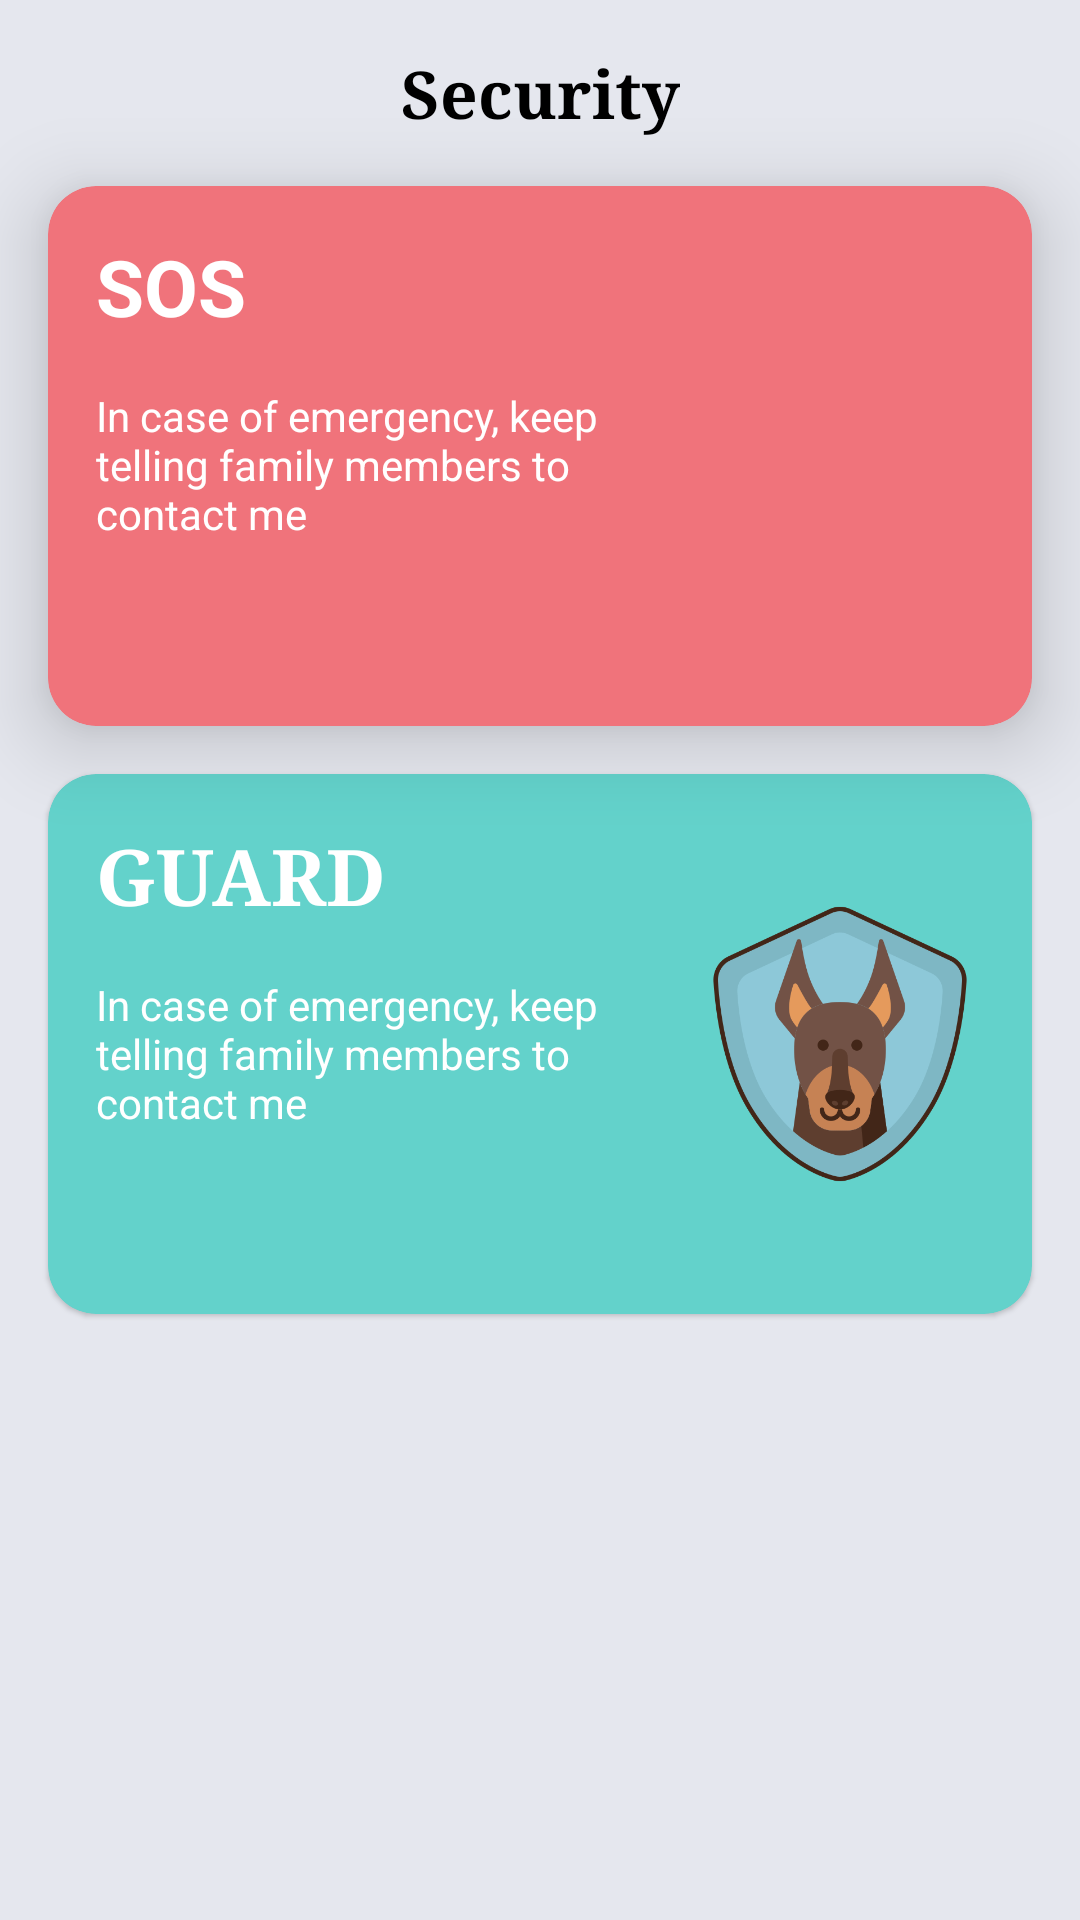

Icon bounding boxes for this 1080×1920 phone screenshot, format region(x1, y1, x2, y2):
guard: region(713, 907, 967, 1181)
